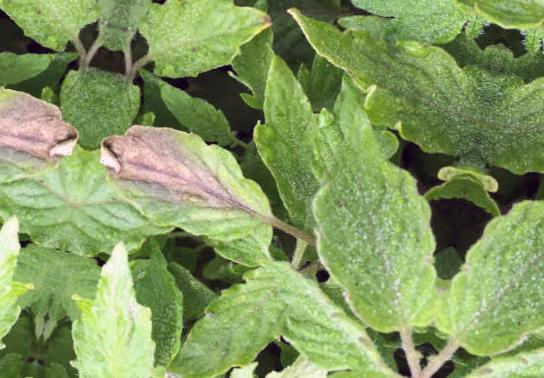Tomato mold leaf: (286, 79, 485, 346), (80, 94, 300, 281), (257, 0, 504, 166), (238, 236, 435, 378), (160, 224, 305, 378), (67, 219, 181, 378), (128, 0, 268, 106), (290, 0, 495, 50), (195, 0, 404, 10)
